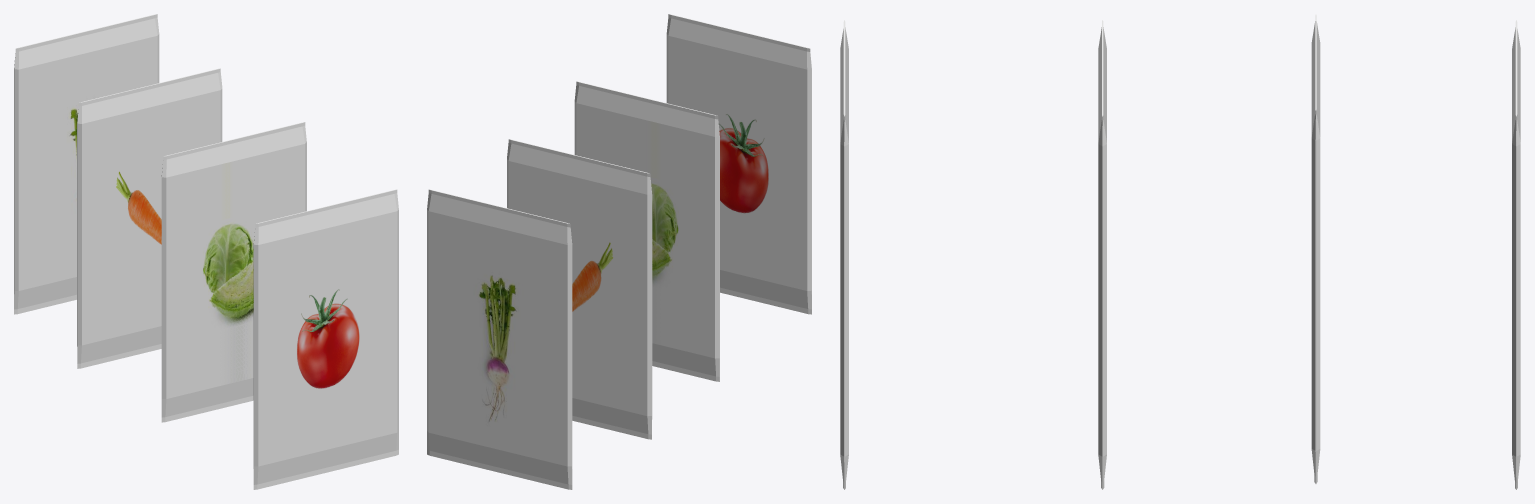
Rendered from seedPackets.fbx.
3 views of the same model, side by side, from view 1: azimuth 30°, elevation 25°; view 2: azimuth 150°, elevation 25°; view 3: azimuth 270°, elevation 25° (orthographic). The views are drawn at different scales.
Parts seen in each view (by area): view 1: Tomato, Cabbage, Carrot, Turnip; view 2: Turnip, Tomato, Carrot, Cabbage; view 3: Carrot, Cabbage, Tomato, Turnip.
Part boxes in pixels (left/top/right/bottom): Tomato: left=253, top=189, right=398, bottom=489; Cabbage: left=161, top=122, right=306, bottom=422; Carrot: left=77, top=68, right=222, bottom=368; Turnip: left=14, top=14, right=159, bottom=314; Turnip: left=427, top=189, right=572, bottom=489; Tomato: left=666, top=14, right=811, bottom=314; Carrot: left=507, top=139, right=652, bottom=439; Cabbage: left=574, top=81, right=719, bottom=381; Carrot: left=1311, top=14, right=1320, bottom=483; Cabbage: left=1098, top=20, right=1106, bottom=489; Tomato: left=840, top=20, right=848, bottom=489; Turnip: left=1512, top=20, right=1520, bottom=489.
Size of the model in its own units: 695 by 1150 by 1906.
